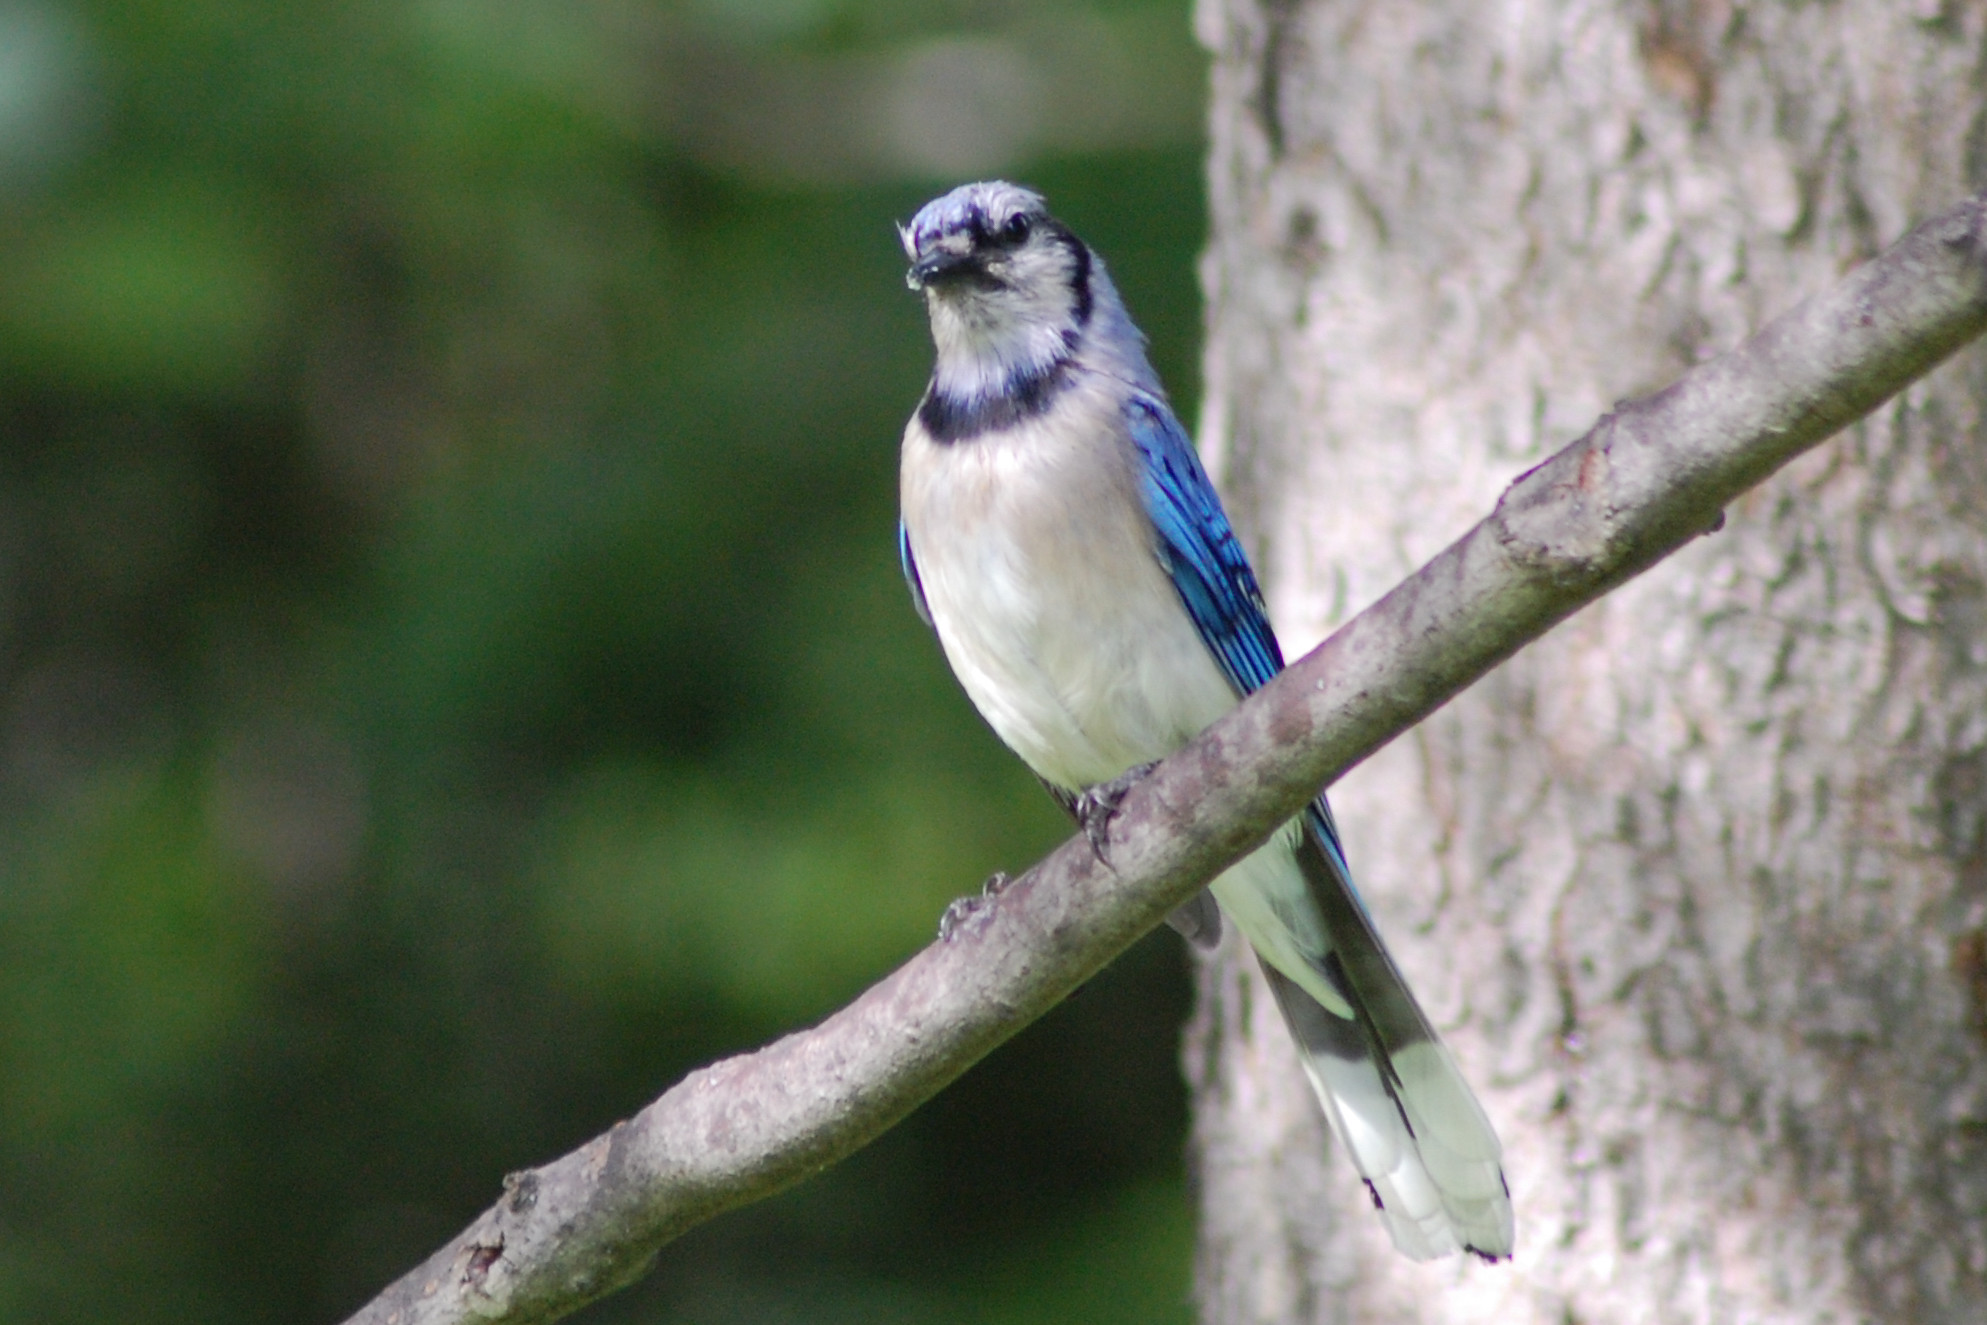bird: (886, 172, 1610, 1325)
